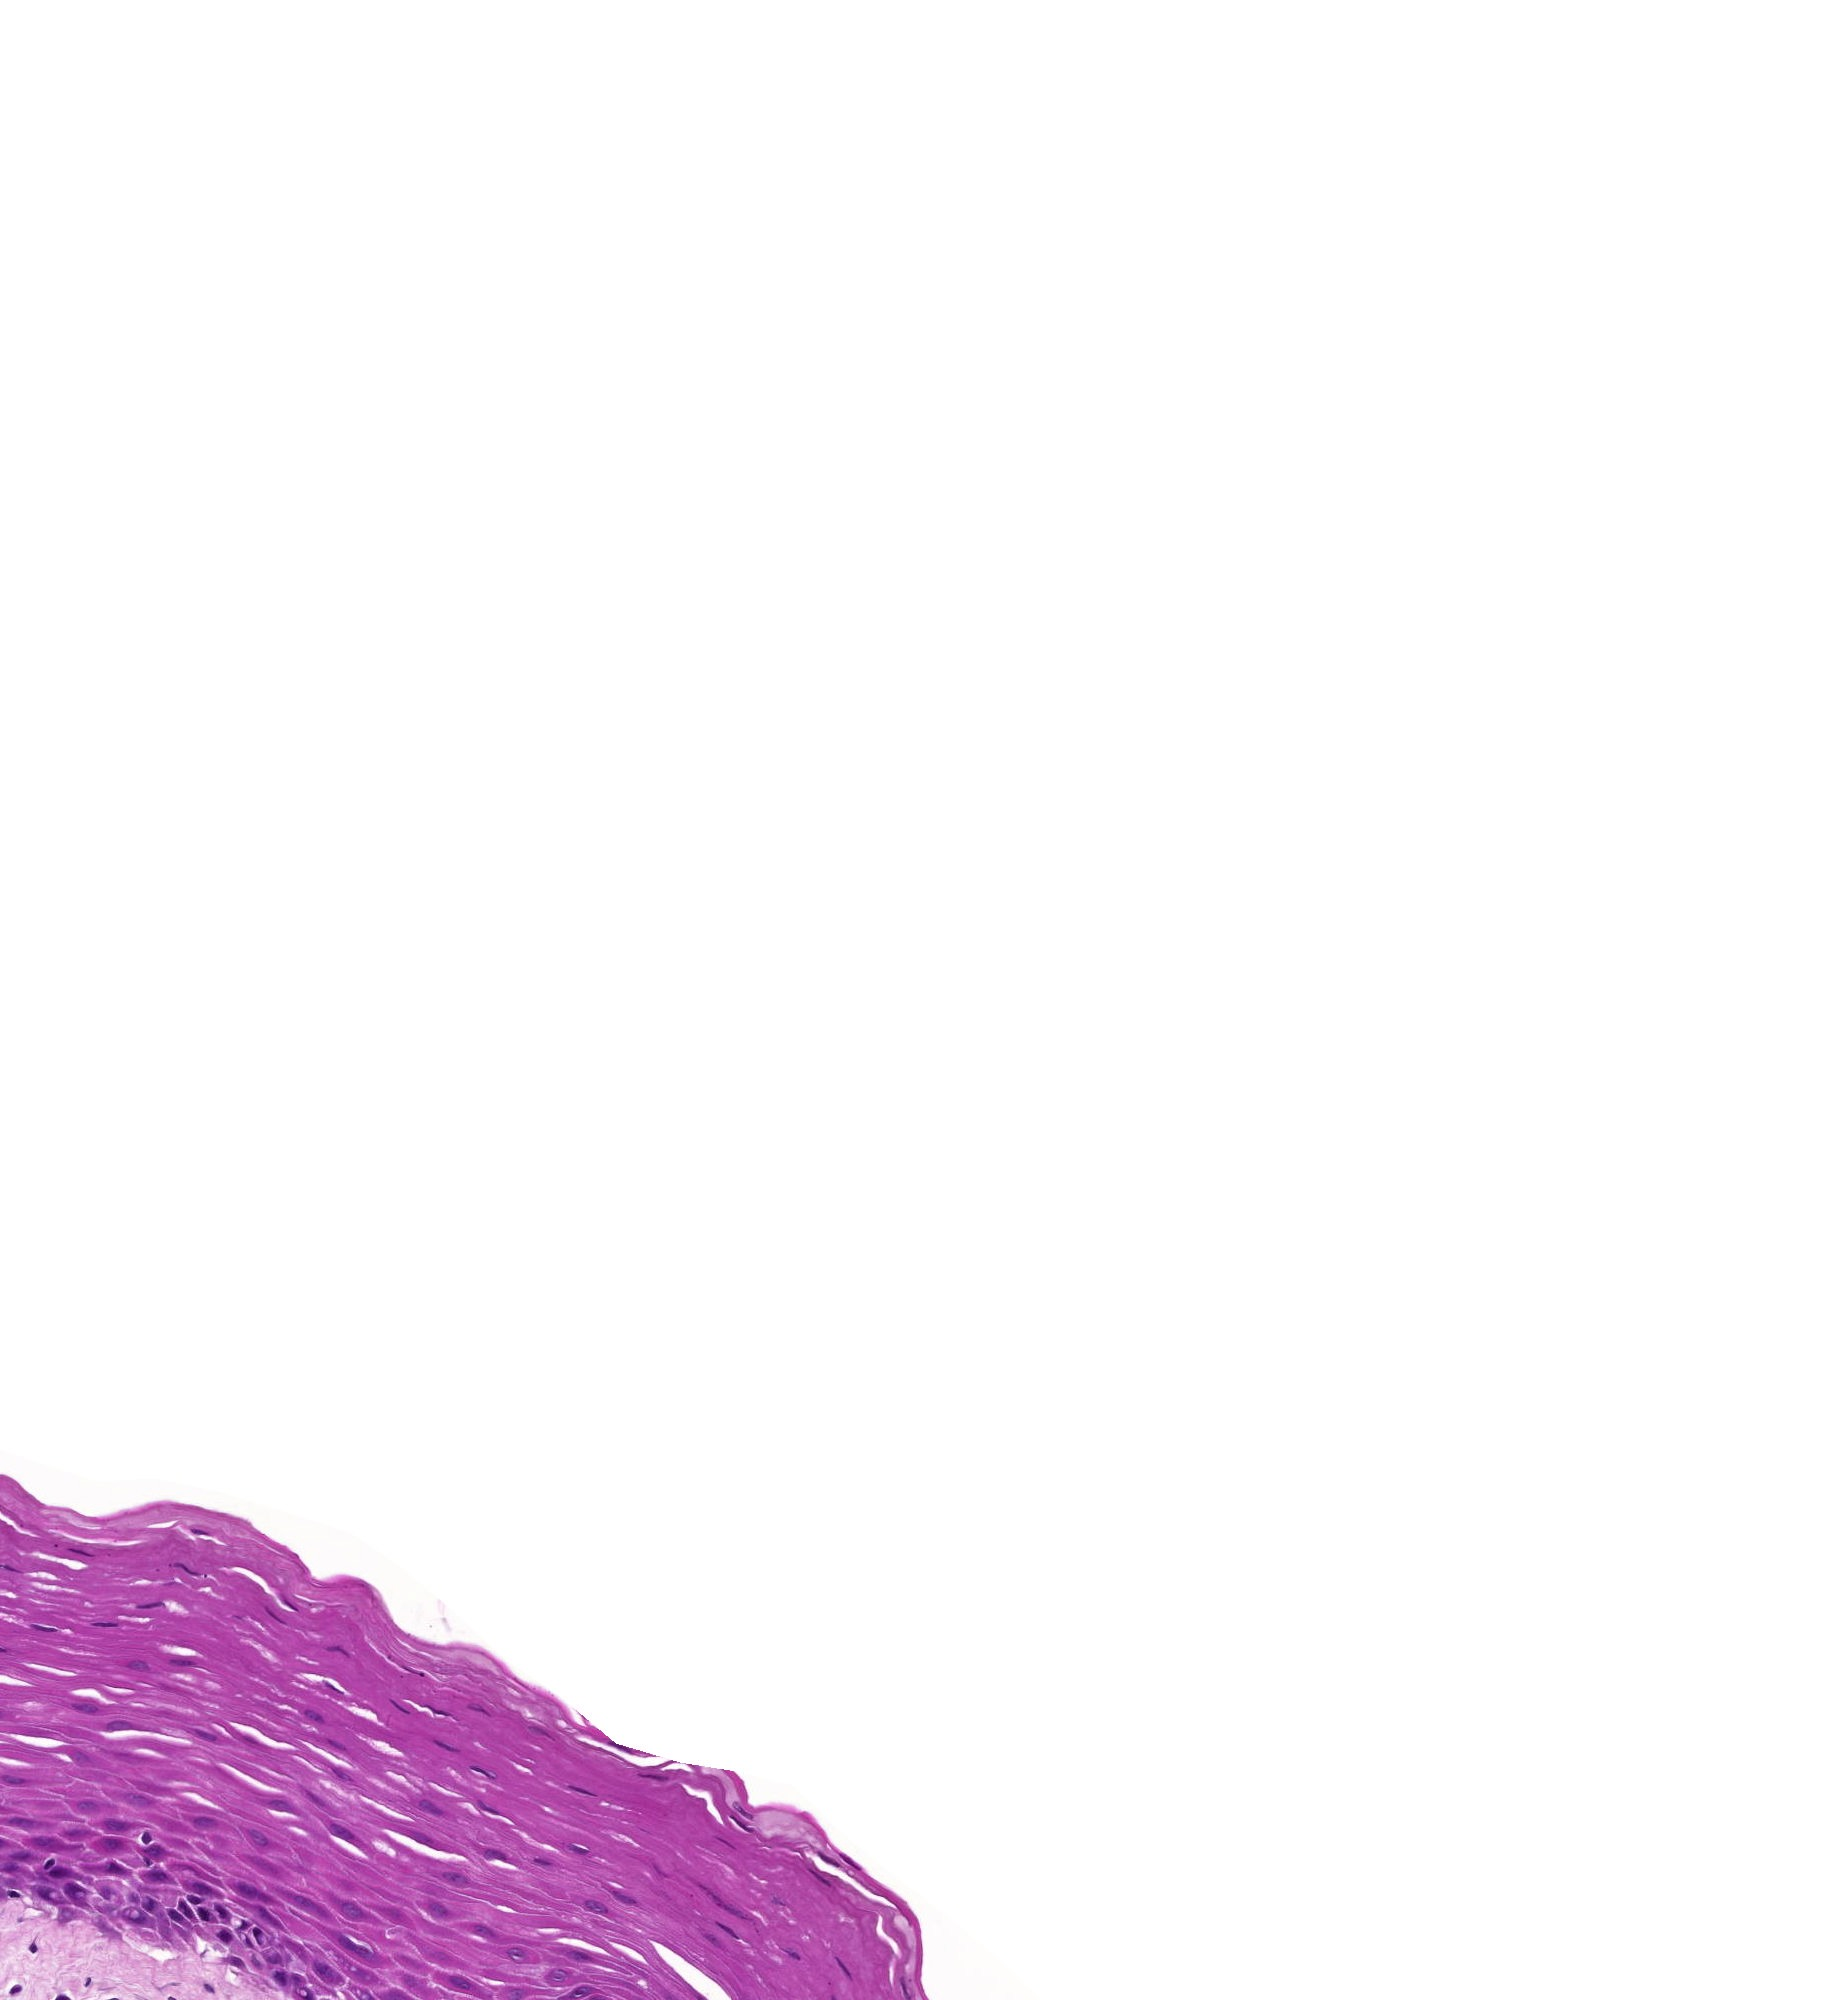epithelial: (186, 1873, 220, 1908), (47, 1857, 80, 1890), (437, 1861, 470, 1894), (30, 1857, 63, 1890), (281, 1965, 314, 1998), (169, 1552, 202, 1585), (179, 1862, 213, 1895), (138, 1876, 171, 1909), (700, 1882, 734, 1915), (641, 1854, 674, 1887), (56, 1873, 89, 1904), (28, 1876, 59, 1909), (134, 1887, 166, 1920), (172, 1890, 204, 1923), (98, 1828, 129, 1861), (99, 1808, 131, 1841), (124, 1902, 155, 1936), (422, 1894, 455, 1925), (258, 1943, 289, 1976), (415, 1791, 448, 1822), (335, 1894, 368, 1925), (35, 1834, 66, 1868), (3, 1805, 37, 1836), (286, 1885, 319, 1916), (242, 1876, 274, 1909), (242, 1822, 275, 1854), (28, 1611, 59, 1645), (70, 1690, 101, 1723), (146, 1890, 178, 1923), (462, 1692, 495, 1723), (254, 1598, 287, 1629), (117, 1894, 148, 1927), (150, 1908, 181, 1941), (639, 1760, 671, 1793), (565, 1939, 598, 1970), (540, 1958, 572, 1991), (725, 1805, 756, 1838), (565, 1969, 598, 2000), (695, 1923, 728, 1955), (761, 1883, 793, 1916), (38, 1855, 70, 1887), (159, 1901, 190, 1932), (141, 1859, 172, 1890), (7, 1840, 38, 1871), (139, 1836, 171, 1868), (186, 1805, 218, 1836), (28, 1826, 59, 1857), (122, 1650, 153, 1681), (247, 1897, 279, 1929), (33, 1848, 64, 1880), (33, 1869, 64, 1901), (71, 1789, 103, 1821), (64, 1740, 96, 1772), (63, 1535, 94, 1566), (329, 1927, 361, 1958), (444, 1965, 476, 1997), (467, 1915, 498, 1946), (342, 1934, 373, 1965), (378, 1897, 409, 1929), (261, 1787, 293, 1819), (181, 1894, 213, 1925), (59, 1817, 91, 1848), (122, 1782, 153, 1814), (2, 1765, 33, 1796), (40, 1829, 71, 1861), (500, 1937, 531, 1969), (807, 1862, 838, 1894), (523, 1714, 554, 1746), (578, 1890, 610, 1922), (828, 1951, 859, 1983), (707, 1824, 739, 1855), (2, 1850, 31, 1883), (307, 1955, 338, 1984), (230, 1875, 261, 1904), (300, 1700, 329, 1732), (61, 1882, 92, 1911), (889, 1969, 920, 1998)
fibroblast and endothelial: (188, 1897, 221, 1930), (206, 1909, 239, 1943), (422, 1693, 455, 1726), (321, 1632, 354, 1666), (383, 1692, 416, 1725), (709, 1911, 742, 1944), (565, 1774, 598, 1807), (195, 1894, 230, 1925), (98, 1852, 131, 1883), (227, 1908, 258, 1941), (16, 1932, 49, 1963), (132, 1833, 164, 1866), (192, 1720, 223, 1753), (429, 1728, 460, 1761), (477, 1836, 509, 1869), (463, 1753, 495, 1786), (240, 1946, 274, 1977), (220, 1901, 251, 1934), (408, 1824, 441, 1855), (181, 1516, 214, 1547), (204, 1887, 235, 1920), (254, 1902, 286, 1936), (10, 1876, 44, 1908), (608, 1882, 639, 1915), (716, 1894, 747, 1927), (777, 1937, 808, 1970), (605, 1730, 638, 1761), (209, 1920, 240, 1951), (207, 1895, 239, 1927), (220, 1946, 251, 1977), (131, 1821, 162, 1852), (263, 1962, 294, 1993), (179, 1883, 211, 1915), (326, 1815, 357, 1847), (167, 1646, 199, 1678), (240, 1915, 272, 1946), (89, 1876, 120, 1908), (91, 1608, 122, 1639), (0, 1878, 31, 1909), (472, 1793, 504, 1824), (101, 1709, 132, 1740), (134, 1589, 166, 1620), (335, 1821, 366, 1852), (0, 1969, 31, 2000), (324, 1758, 355, 1789), (228, 1922, 260, 1953), (105, 1821, 136, 1852), (812, 1843, 843, 1875), (833, 1847, 864, 1878), (563, 1834, 594, 1866), (526, 1845, 558, 1876), (218, 1915, 251, 1944), (239, 1923, 268, 1955)
